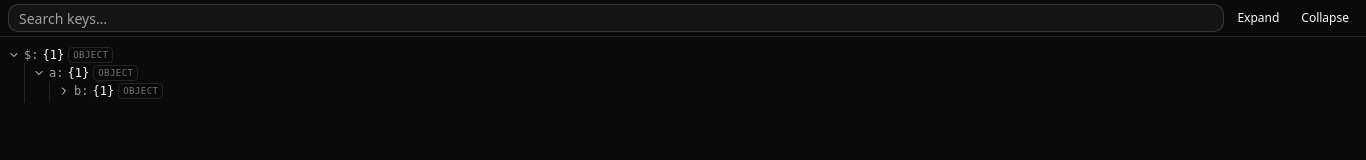
Test: JsonTree › expand-all button opens nested objects
Check: the text "c:" is not shown
Click Expand to open every node.
Click the button titled "Expand all" at (1258, 18), box x1=1228 y1=6 x2=1288 y2=30
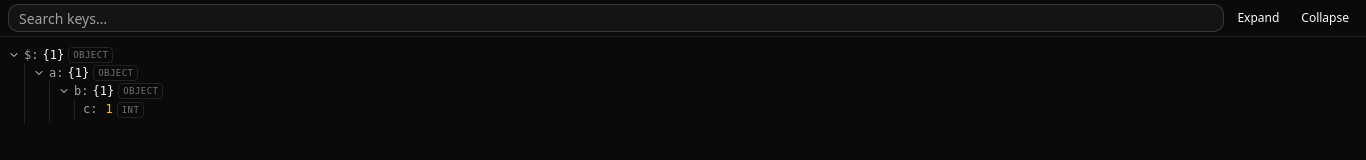
Check: the text "c:" is shown, box x1=83 y1=101 x2=98 y2=117
